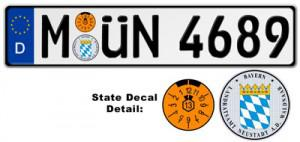4: (177, 13, 204, 60)
6: (207, 13, 232, 59)
8: (235, 14, 262, 59)
9: (264, 14, 290, 59)
M: (40, 12, 71, 60)
N: (131, 13, 160, 58)
ue: (100, 11, 128, 59)
